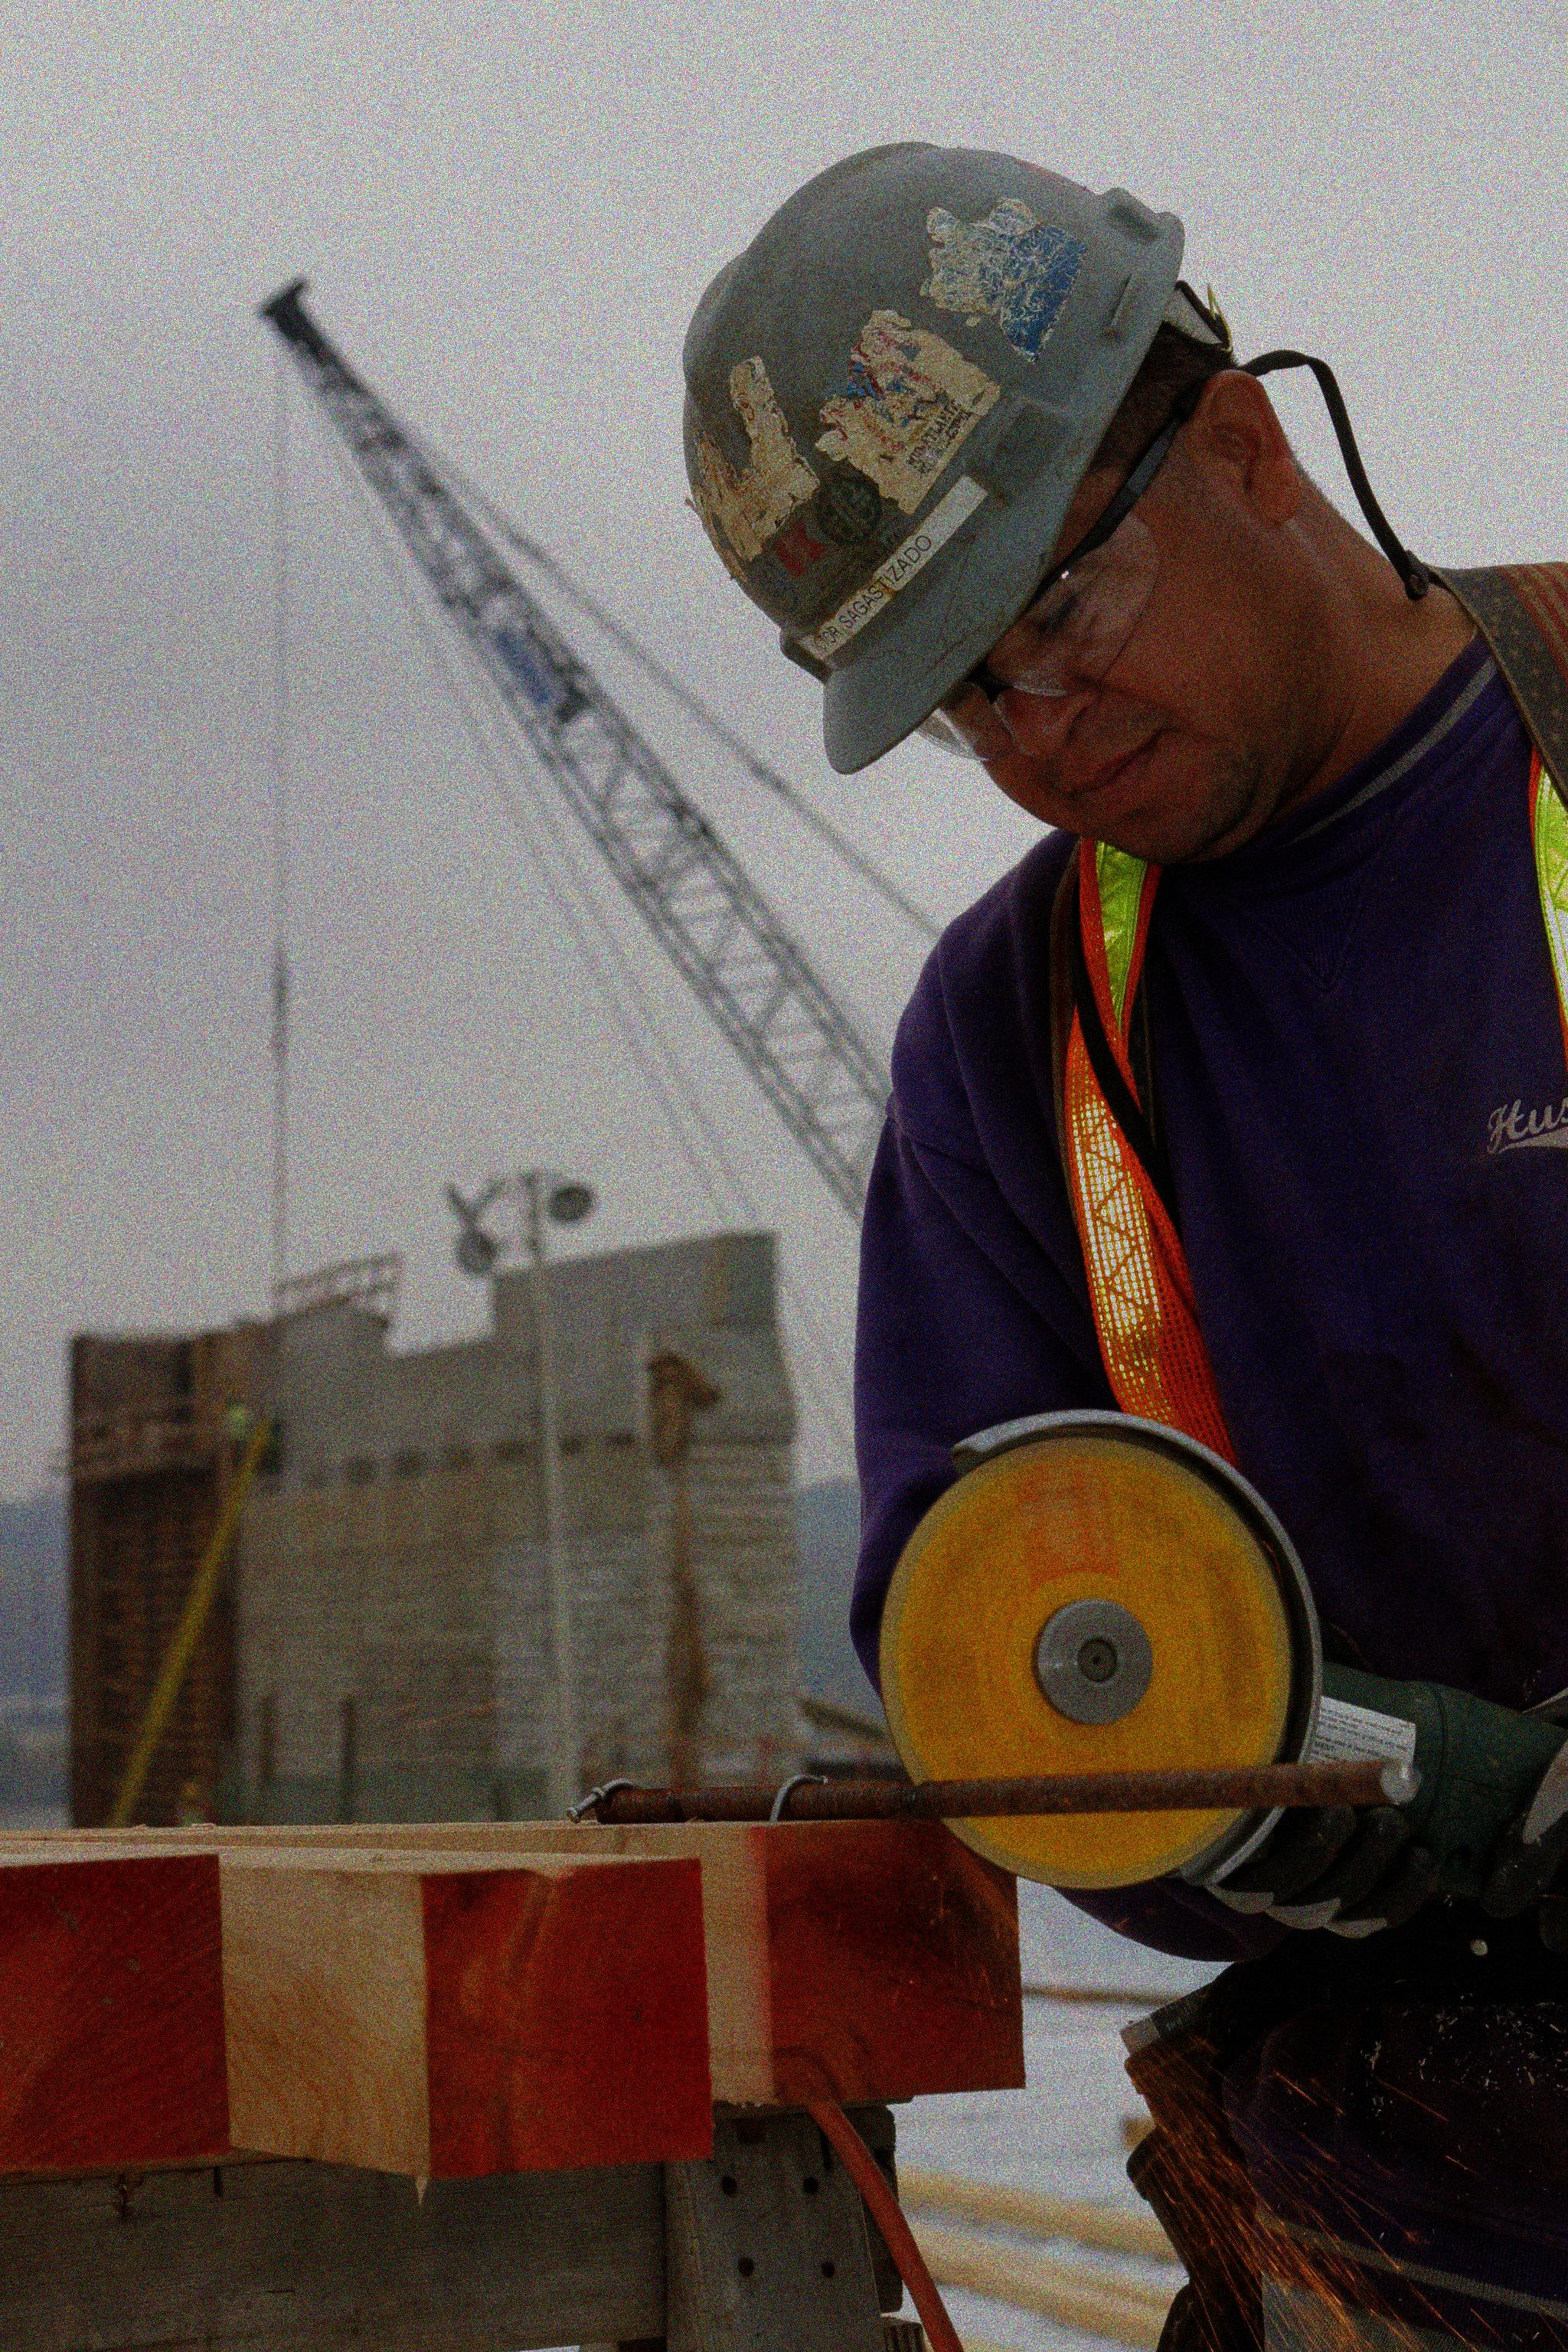helmet: (672, 145, 1340, 887)
